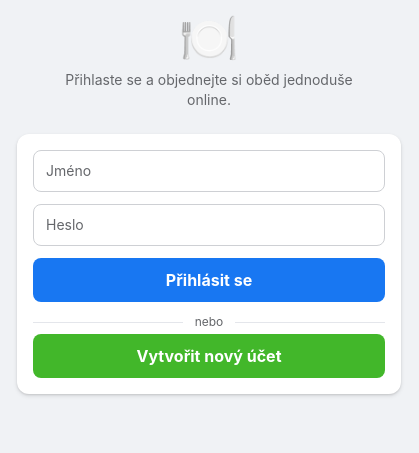
Test: AuthForm: kliknutí na "Vytvořit nový účet" přepne na registrační formulář
Expected: the button "Přihlásit se" is shown, [33,258,385,302]
Note: Klikni na přepínač
Step 1. Click the button "Vytvořit nový účet" → (209, 356), box [33,334,385,378]
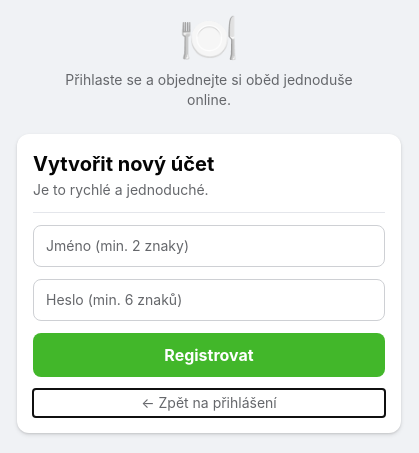
Expected: the button "Registrovat" is shown, [33,333,385,377]
Expected: the button "← Zpět na přihlášení" is shown, [33,389,385,417]
